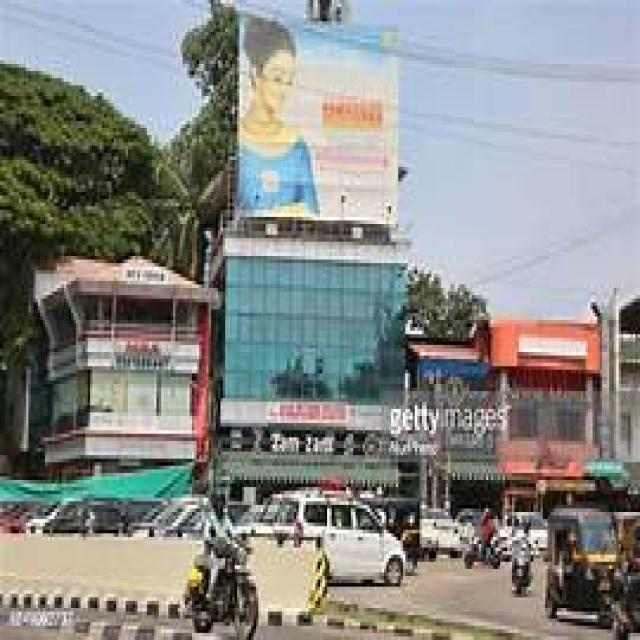Auto: (549, 512, 617, 622)
Car: (271, 493, 404, 584)
Two Wheeler: (185, 566, 259, 639)
